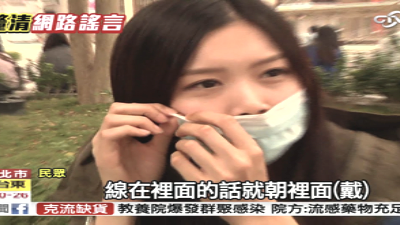mask_weared_incorrect: (171, 47, 312, 169)
